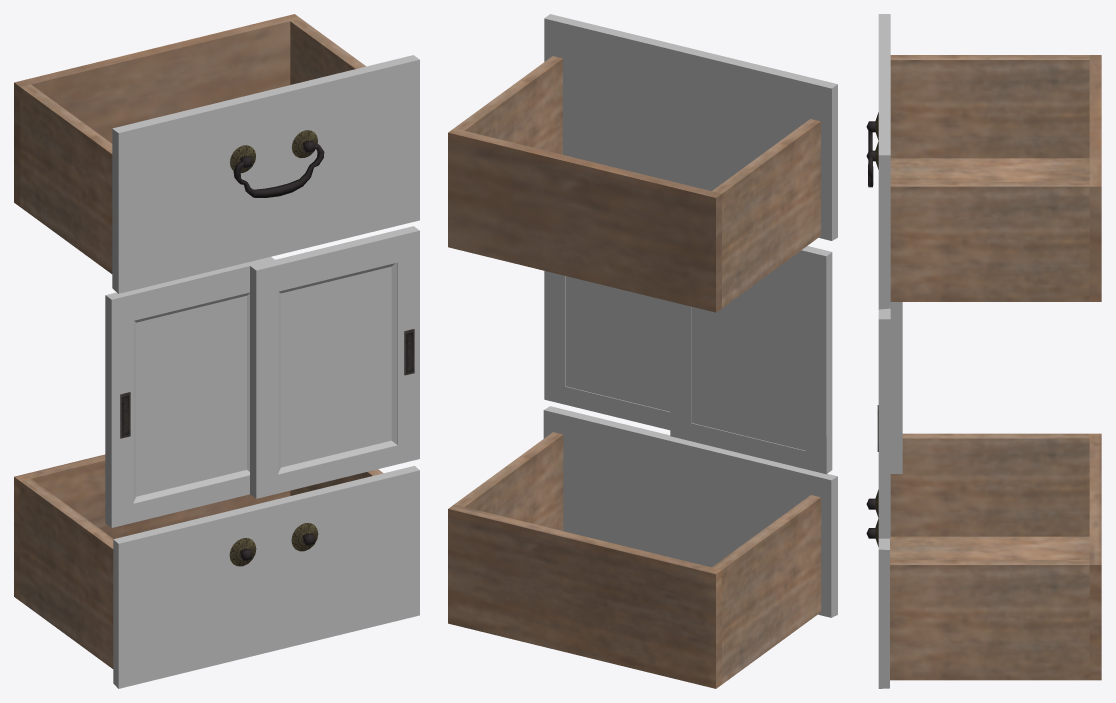
Rendered from jov_tansu02a.fbx.
3 views of the same model, side by side, from view 1: azimuth 30°, elevation 25°; view 2: azimuth 150°, elevation 25°; view 3: azimuth 270°, elevation 25° (orthographic). The views are drawn at different scales.
Parts seen in each view (by area): view 1: jov_tansu02a_chest1, jov_tansu02a_chest4, jov_tansu02a_chest3, jov_tansu02a_chest2, jov_tansu02a_chesthundle01; view 2: jov_tansu02a_chest1, jov_tansu02a_chest4, jov_tansu02a_chest2, jov_tansu02a_chest3; view 3: jov_tansu02a_chest1, jov_tansu02a_chest4, jov_tansu02a_chest3, jov_tansu02a_chest2.
Boxes of the visible parts, x1,y1,x2,y2 form: jov_tansu02a_chest1: [14, 14, 419, 293]; jov_tansu02a_chest4: [14, 454, 419, 688]; jov_tansu02a_chest3: [250, 226, 419, 498]; jov_tansu02a_chest2: [105, 257, 274, 527]; jov_tansu02a_chesthundle01: [233, 143, 324, 197]; jov_tansu02a_chest1: [448, 14, 837, 312]; jov_tansu02a_chest4: [448, 406, 837, 688]; jov_tansu02a_chest2: [670, 246, 832, 474]; jov_tansu02a_chest3: [544, 271, 670, 430]; jov_tansu02a_chest1: [866, 14, 1101, 309]; jov_tansu02a_chest4: [866, 433, 1101, 688]; jov_tansu02a_chest3: [877, 308, 890, 538]; jov_tansu02a_chest2: [890, 302, 902, 473].
Size of what is drawn, in the model's own units: 69.57 by 122 by 48.7.
